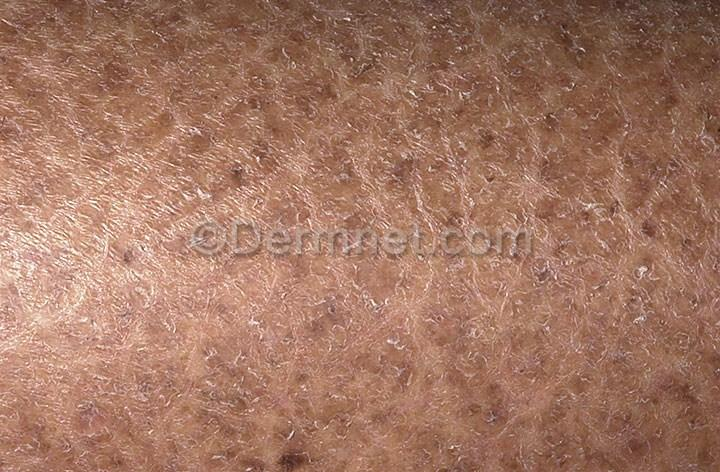liquenificacion 1: (1, 1, 720, 472)
xerosis 2: (0, 0, 719, 471)
